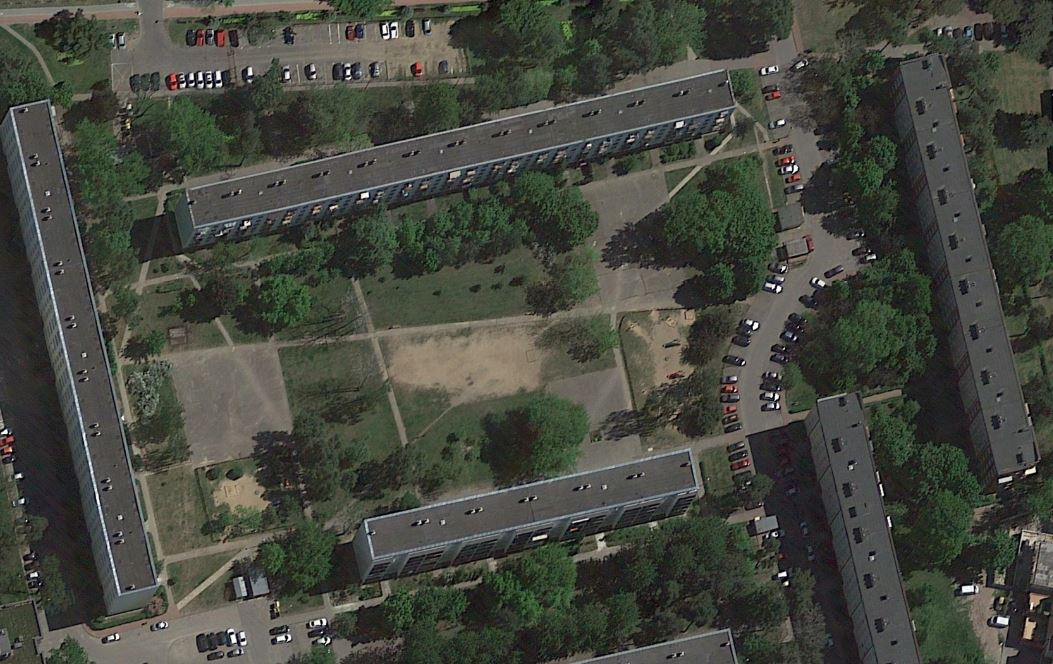block of flats: (159, 56, 758, 263), (1, 82, 172, 622), (883, 46, 1047, 493), (342, 423, 704, 587), (799, 380, 936, 664)
